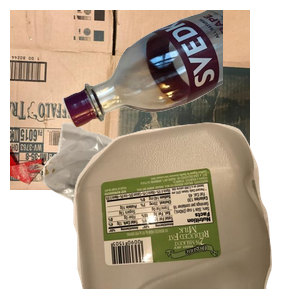cardboard: (10, 10, 250, 190)
glass: (60, 10, 300, 130)
plastic: (71, 120, 300, 300)
trash: (41, 120, 276, 300)
